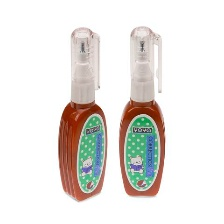correction_fluid: (57, 26, 109, 202), (118, 25, 166, 197)
